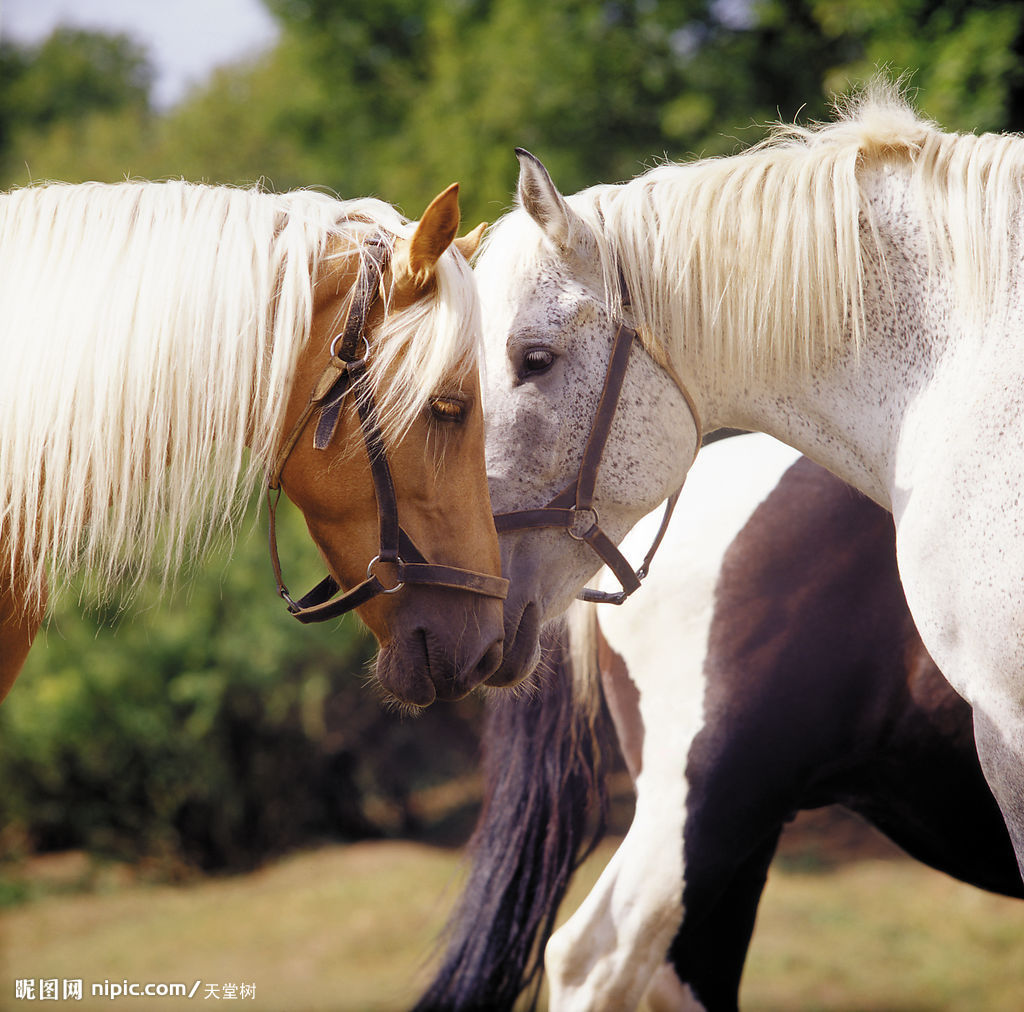horse: (446, 52, 1024, 908), (1, 176, 514, 726)
